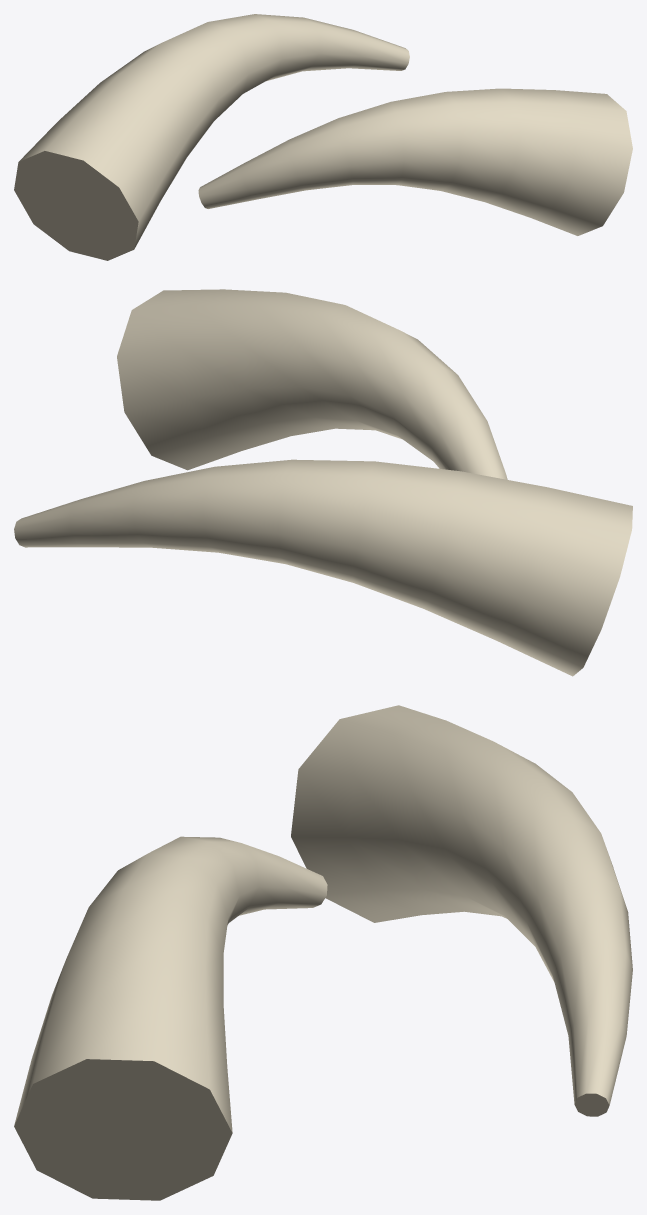
File: wolf_fang.glb
3 views of the same model, one above another, from view 1: azimuth 30°, elevation 25°; view 2: azimuth 150°, elevation 25°; view 3: azimuth 270°, elevation 25° (orthographic). The views are drawn at different scales.
Parts seen in each view (by area): view 1: wolf_fang; view 2: wolf_fang; view 3: wolf_fang.
Part boxes in pixels (<box>): wolf_fang: <box>14,14,632,260</box>; wolf_fang: <box>14,289,632,676</box>; wolf_fang: <box>14,705,632,1200</box>.
Bounding box in the file's own units: 0.0918 × 0.0274 × 0.0666.
